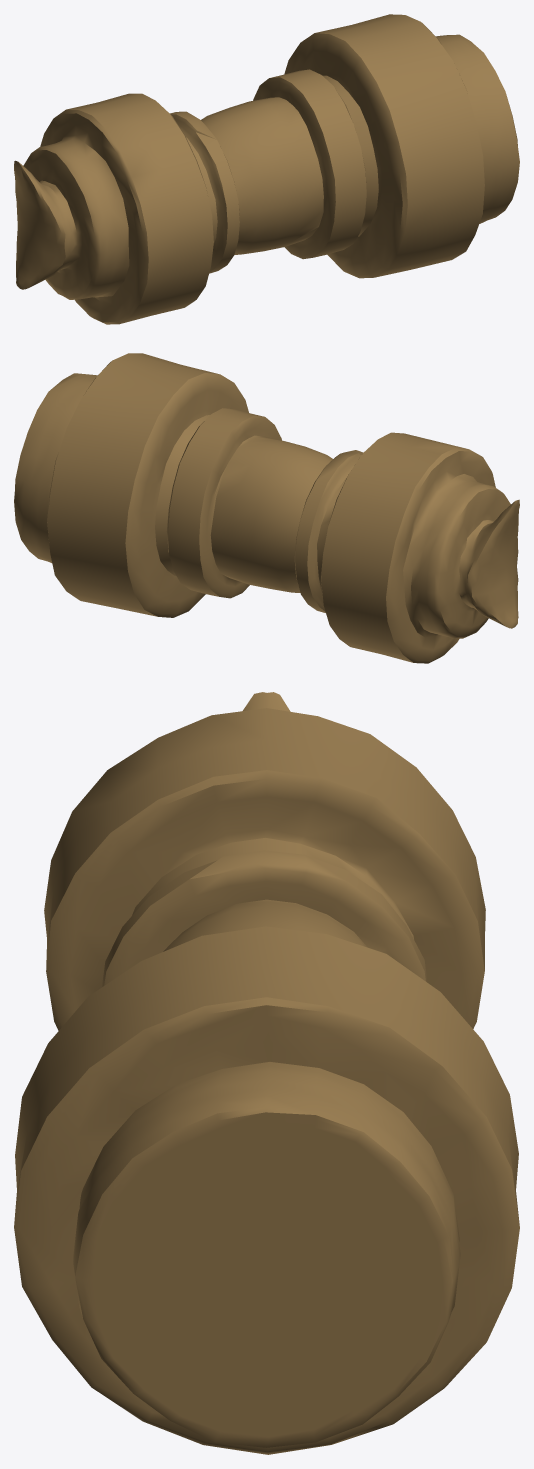
Rendered from 17_FittingStraight.glb.
3 views of the same model, one above another, from view 1: azimuth 30°, elevation 25°; view 2: azimuth 150°, elevation 25°; view 3: azimuth 270°, elevation 25° (orthographic). The views are drawn at different scales.
Parts seen in each view (by area): view 1: SM_TS_BrineMK1_FittingStraight_V02; view 2: SM_TS_BrineMK1_FittingStraight_V02; view 3: SM_TS_BrineMK1_FittingStraight_V02.
Part boxes in pixels (left/top/right/bottom): SM_TS_BrineMK1_FittingStraight_V02: left=14, top=14, right=519, bottom=324; SM_TS_BrineMK1_FittingStraight_V02: left=14, top=353, right=519, bottom=663; SM_TS_BrineMK1_FittingStraight_V02: left=14, top=692, right=519, bottom=1454.
Bounding box in the file's own units: 0.045 × 0.022 × 0.022.
